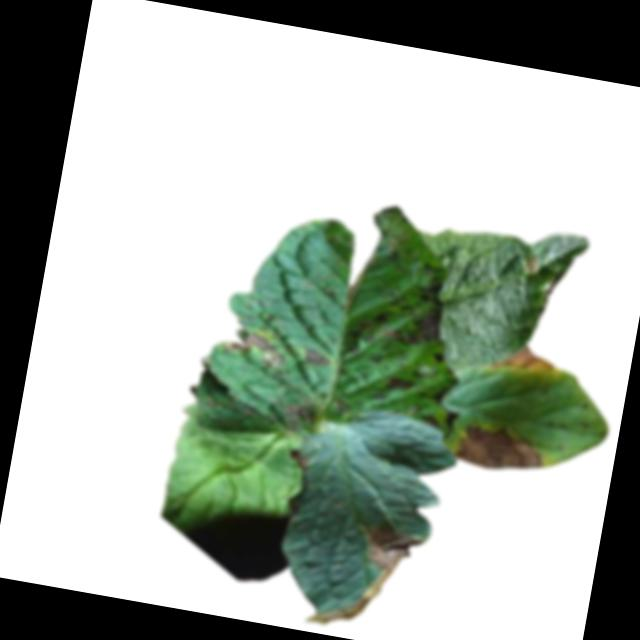Early_blight: (300, 511, 419, 640), (368, 257, 451, 353), (452, 416, 546, 475), (223, 322, 290, 372), (491, 337, 557, 378), (281, 391, 322, 435), (418, 402, 458, 441), (287, 445, 315, 470), (383, 374, 414, 393), (305, 349, 332, 368), (522, 254, 542, 276), (431, 350, 448, 365)
